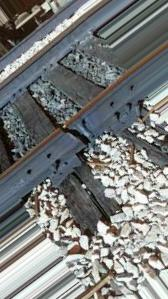tracks_fault: (52, 114, 107, 157), (17, 147, 69, 187), (97, 80, 142, 114)
